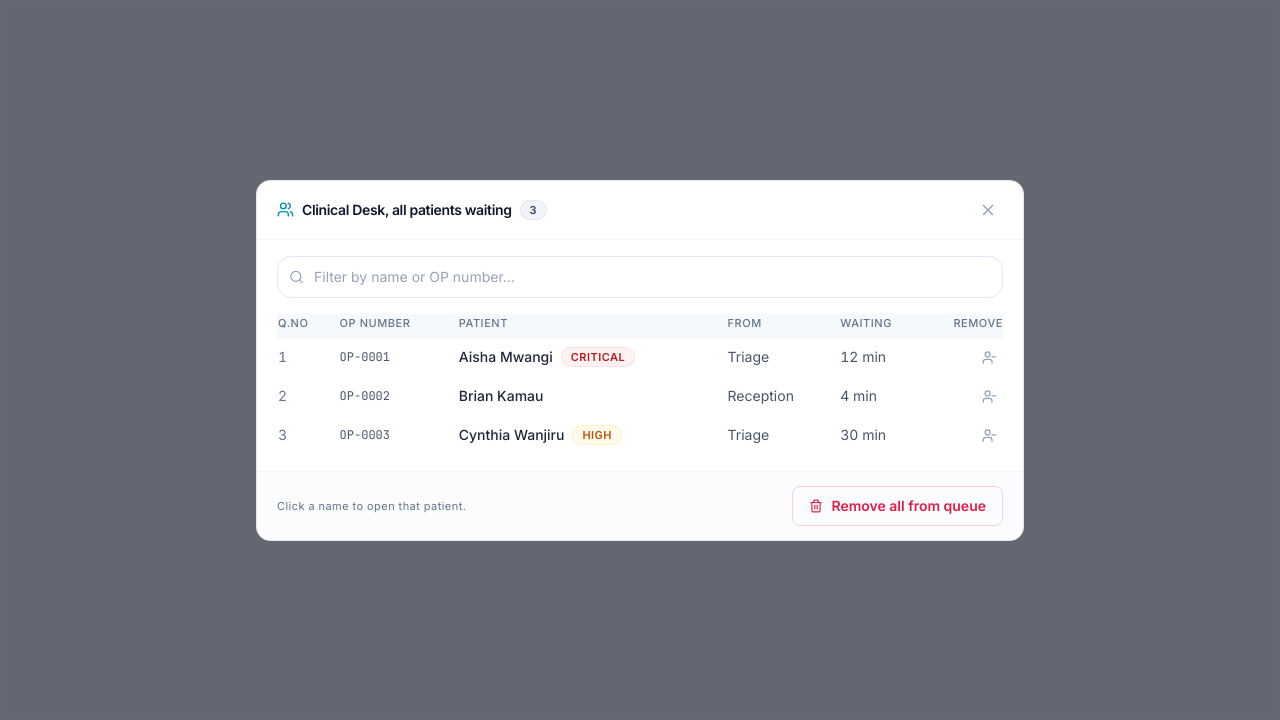
Scenario: actions › lets the confirmation be backed out of
The width and height of the screenshot is (1280, 720).
Click the button "Remove all from queue" at (898, 506), box 792,486 -> 1003,526
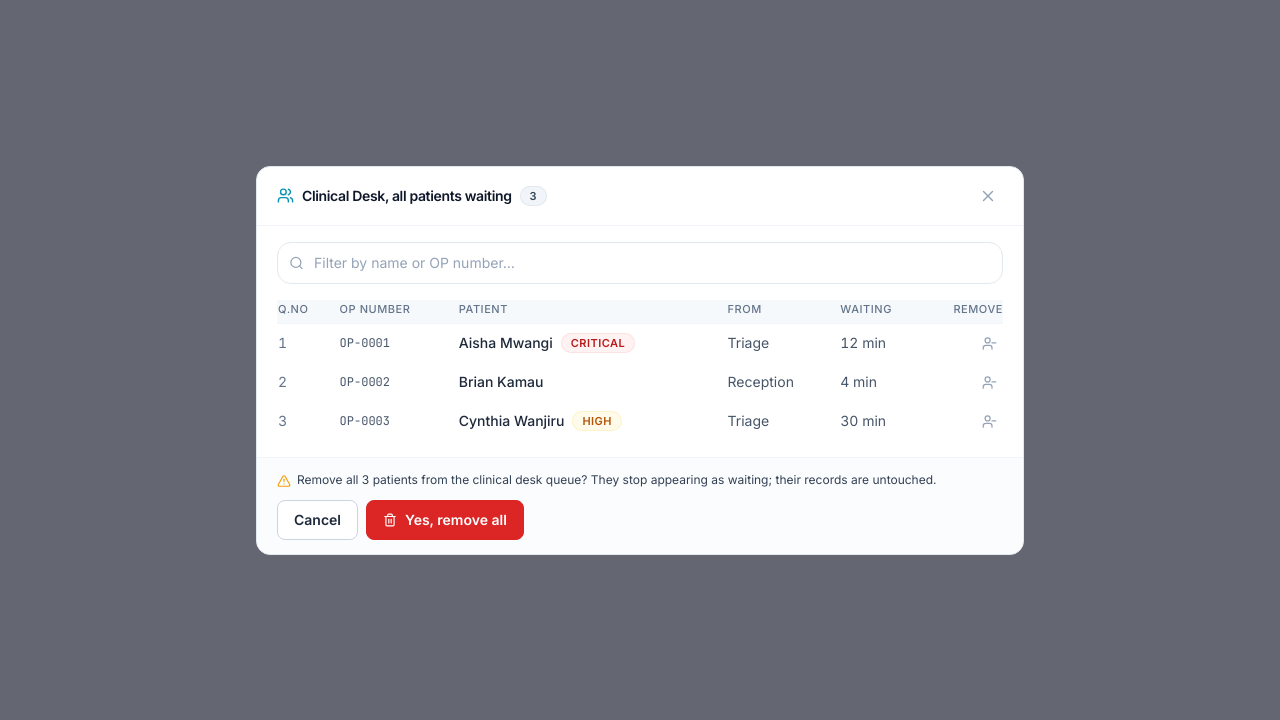
Click the button "Cancel" at (318, 520), box 277,500 -> 358,540
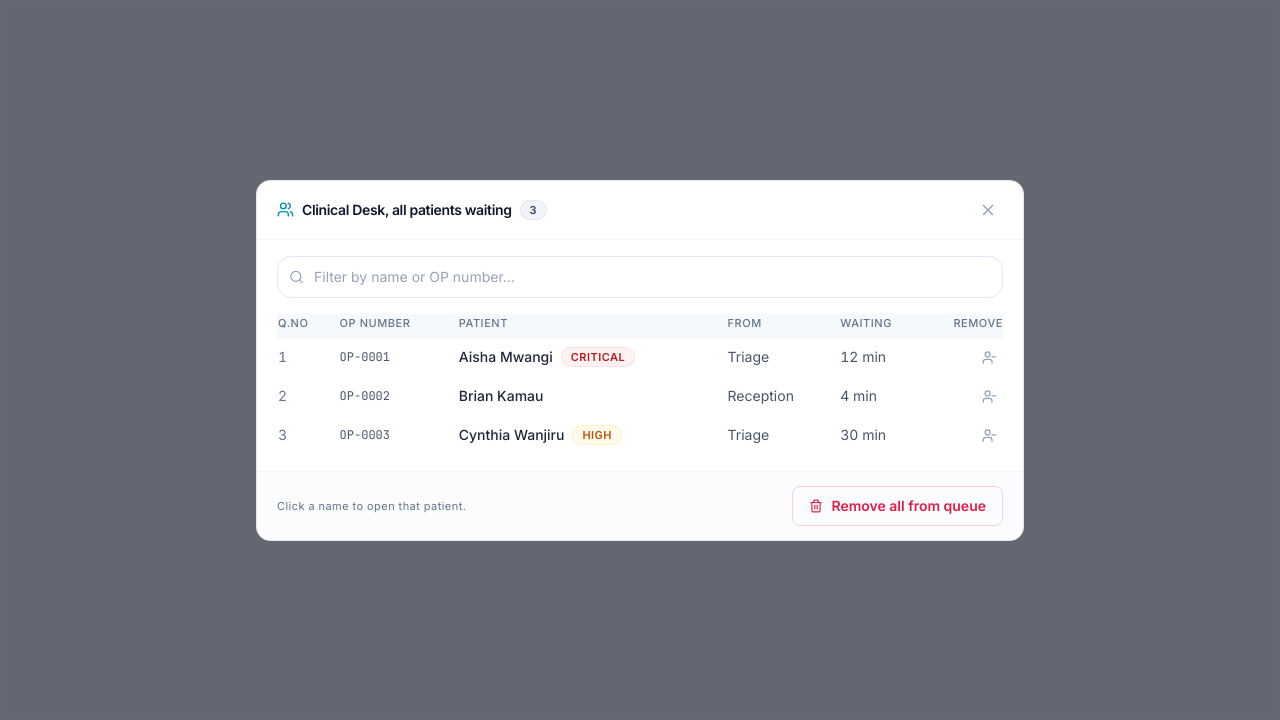
expect the button "Remove all from queue" is shown: met, box 792,486 -> 1003,526
